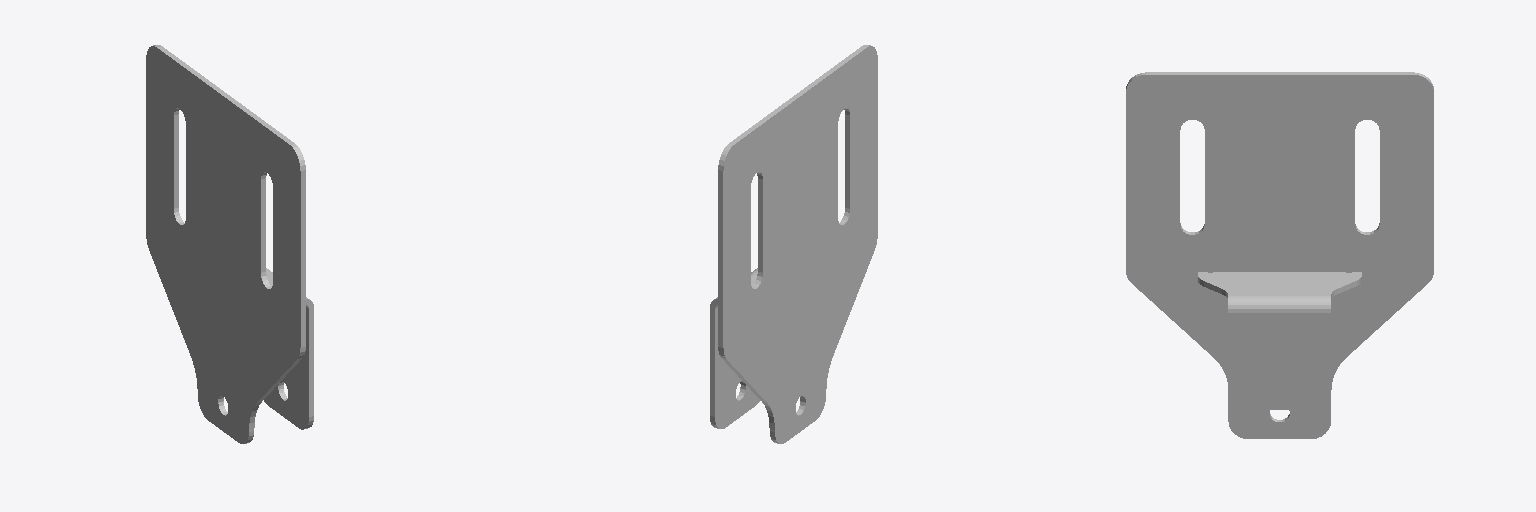
File: uchwyt sciskany.obj
3 views of the same model, side by side, from view 1: azimuth 30°, elevation 25°; view 2: azimuth 150°, elevation 25°; view 3: azimuth 270°, elevation 25° (orthographic).
Parts seen in each view (by area): view 1: Bryła393; view 2: Bryła393; view 3: Bryła393.
Boxes of the visible parts, x1=… form: Bryła393: x1=146, y1=45, x2=313, y2=443; Bryła393: x1=710, y1=45, x2=877, y2=443; Bryła393: x1=1126, y1=72, x2=1433, y2=438.
Bounding box in the file's own units: 36.61 × 180 × 150.